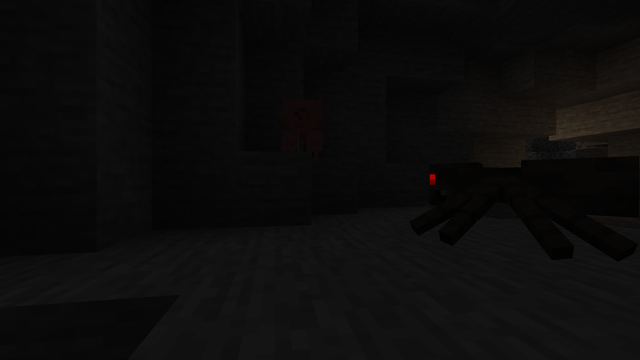araignees: (410, 145, 633, 255)
cochons: (277, 97, 334, 159)
